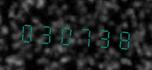eight: (113, 22, 131, 53)
seven: (75, 19, 93, 51)
three: (36, 17, 54, 48), (94, 21, 112, 52)
zero: (17, 15, 35, 47), (56, 18, 74, 49)
